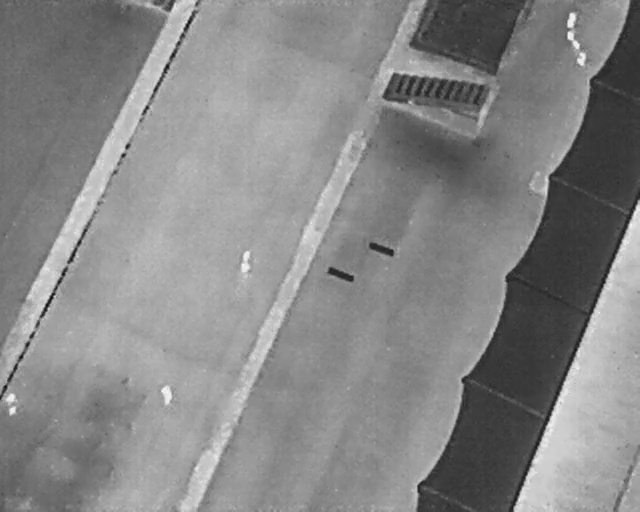Person: (5, 391, 19, 417), (160, 383, 173, 409), (240, 248, 252, 275)
